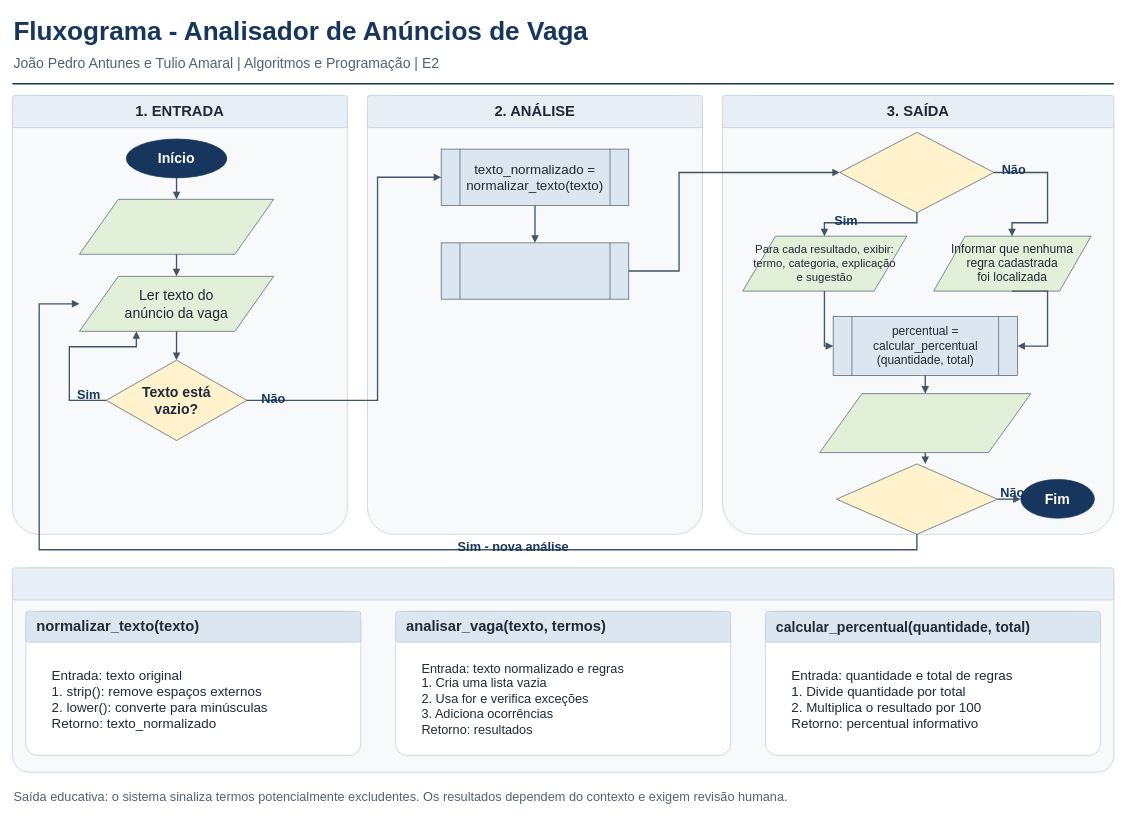
The diagram is 1132 pixels wide and 820 high, and some of its shapes have lost their labels. Each missing label, with the centre of its shape:
"Analisar outra vaga?" goes at point (916, 498).
"DETALHAMENTO DAS SUB-ROTINAS" goes at point (563, 583).
"Exibir quantidade e percentual Percentual não mede discriminação" goes at point (925, 423).
"Exibir título e aviso: não é parecer jurídico" goes at point (176, 226).
"Há resultados?" goes at point (916, 172).
"resultados = analisar_vaga(texto_normalizado, termos)" goes at point (535, 270).
